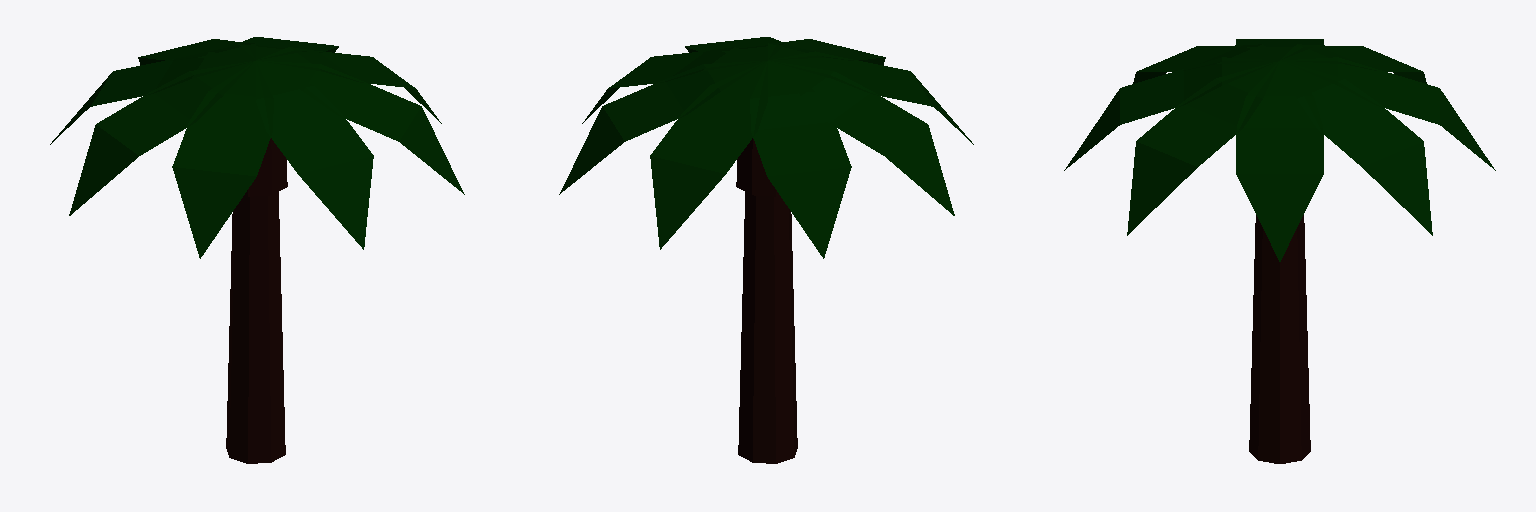
File: palm1.obj
The picture shows the model from 3 angles: view 1: azimuth 30°, elevation 25°; view 2: azimuth 150°, elevation 25°; view 3: azimuth 270°, elevation 25°; orthographic projection.
Visible parts, largest first — view 1: Cylinder.026; view 2: Cylinder.026; view 3: Cylinder.026.
Boxes of the visible parts, <box> form: Cylinder.026: <box>50,37,464,463</box>; Cylinder.026: <box>559,37,973,463</box>; Cylinder.026: <box>1064,39,1495,463</box>.
Size of the model in its own units: 7.02 by 7 by 7.02.